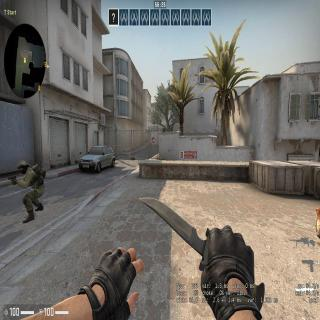CT-Body: (15, 159, 47, 209)
CT-Head: (17, 161, 28, 174)
